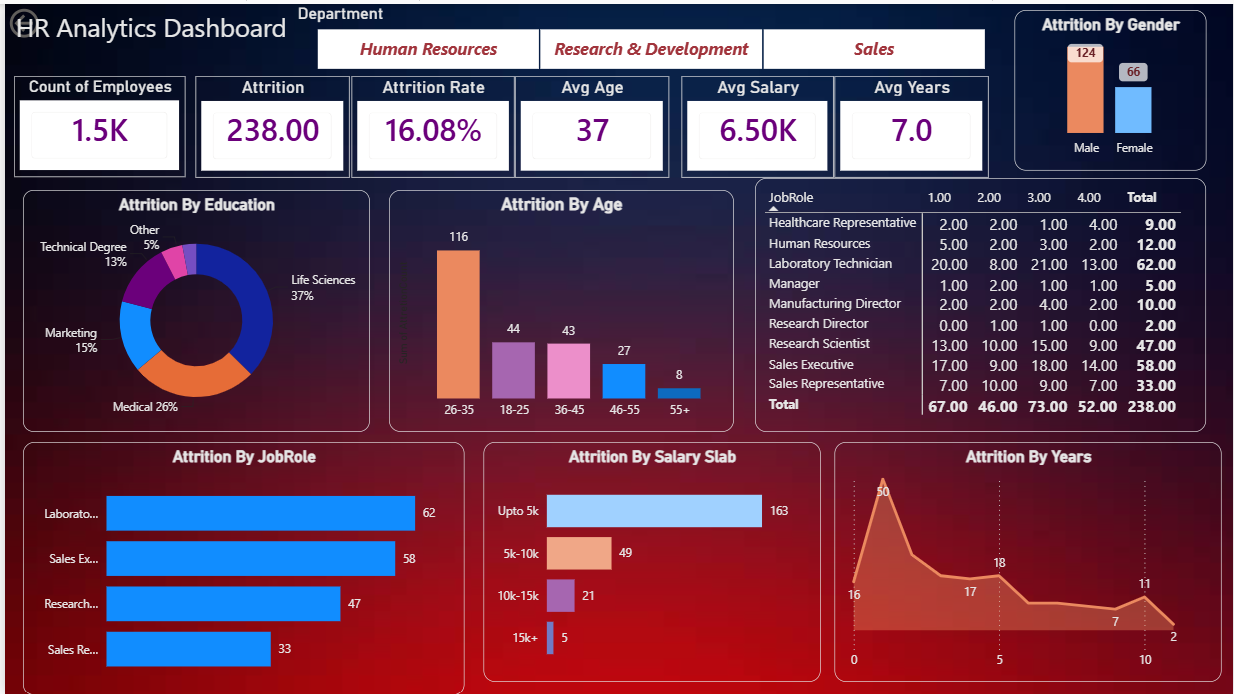

Layout of this report page (visuals, bound fields, positions):
{"tool":"powerbi","page":{"name":"Page 1","canvas":[1280,720],"ordinal":0},"visuals":[{"type":"cardVisual","title":"Count of Employees","fields":{"Data":["CountNonNull(HR_Analytics - HR_Analytics.EmpID)"]},"box":[18.9,75.6,160.6,105.8],"z":0},{"type":"cardVisual","title":"Attrition","fields":{"Data":["Sum(HR_Analytics.AttretionCount)"]},"box":[198.4,75.6,160.6,105.8],"z":1000},{"type":"cardVisual","title":"Attrition Rate","fields":{"Data":["HR_Analytics.AttritionRate"]},"box":[360.9,75.6,170.1,105.8],"z":2000},{"type":"actionButton","box":[0.7,0,100,40],"z":3000},{"type":"cardVisual","title":"Avg Age","fields":{"Data":["Avg(HR_Analytics.Age)"]},"box":[531,75.6,160.6,105.8],"z":4000},{"type":"cardVisual","title":"Avg Salary","fields":{"Data":["Avg(HR_Analytics.MonthlyIncome)"]},"box":[704.9,75.6,158.7,105.8],"z":5000},{"type":"cardVisual","title":"Avg Years","fields":{"Data":["Avg(HR_Analytics.YearsAtCompany)"]},"box":[863.6,75.6,160.6,105.8],"z":6000},{"type":"donutChart","title":"Attrition By  Education","fields":{"Y":["Sum(HR_Analytics.AttretionCount)"],"Category":["HR_Analytics.EducationField"]},"box":[18.2,193.7,361.2,252.2],"z":7000},{"type":"columnChart","title":"Attrition By  Age","fields":{"Category":["HR_Analytics.AgeGroup"],"Y":["Sum(HR_Analytics.AttretionCount)"]},"box":[399.5,193.7,359.2,252.2],"z":8000},{"type":"pivotTable","fields":{"Values":["Sum(HR_Analytics.AttretionCount)"],"Rows":["HR_Analytics.JobRole"],"Columns":["HR_Analytics.JobSatisfaction"]},"box":[780.9,181.6,470.2,264.3],"z":9000},{"type":"barChart","title":"Attrition By JobRole","fields":{"Category":["HR_Analytics.JobRole"],"Y":["Sum(HR_Analytics.AttretionCount)"]},"box":[18.2,456,460.1,264.3],"z":10000},{"type":"barChart","title":"Attrition By  Salary Slab","fields":{"Category":["HR_Analytics.SalarySlab"],"Y":["Sum(HR_Analytics.AttretionCount)"]},"box":[498.4,456,351.1,250.2],"z":11000},{"type":"areaChart","title":"Attrition By  Years","fields":{"Category":["HR_Analytics.YearsAtCompany"],"Y":["Sum(HR_Analytics.AttretionCount)"]},"box":[863.7,456,403.6,250.2],"z":12000},{"type":"lineClusteredColumnComboChart","title":"Attrition By Gender","fields":{"Category":["HR_Analytics.Gender"],"Y":["Sum(HR_Analytics.AttretionCount)"]},"box":[1051.3,6.1,199.8,167.5],"z":13000},{"type":"slicer","title":"Department","fields":{"Values":["HR_Analytics.Department"]},"box":[300.7,0,744.6,74.7],"z":14000},{"type":"textbox","box":[0,0,304.7,64.6],"z":15000}]}

Visuals, with their boxes in screenshot pixels (x1, y1, x2, y2), scaled from the page's 1280x720 canvas onto the 1234x694 screenshot:
"Count of Employees" cardVisual: (left=18, top=73, right=173, bottom=175)
"Attrition" cardVisual: (left=191, top=73, right=346, bottom=175)
"Attrition Rate" cardVisual: (left=348, top=73, right=512, bottom=175)
actionButton: (left=1, top=0, right=97, bottom=39)
"Avg Age" cardVisual: (left=512, top=73, right=667, bottom=175)
"Avg Salary" cardVisual: (left=680, top=73, right=833, bottom=175)
"Avg Years" cardVisual: (left=833, top=73, right=987, bottom=175)
"Attrition By  Education" donutChart: (left=18, top=187, right=366, bottom=430)
"Attrition By  Age" columnChart: (left=385, top=187, right=731, bottom=430)
pivotTable - Sum(HR_Analytics.AttretionCount) x HR_Analytics.JobRole: (left=753, top=175, right=1206, bottom=430)
"Attrition By JobRole" barChart: (left=18, top=440, right=461, bottom=693)
"Attrition By  Salary Slab" barChart: (left=480, top=440, right=819, bottom=681)
"Attrition By  Years" areaChart: (left=833, top=440, right=1222, bottom=681)
"Attrition By Gender" lineClusteredColumnComboChart: (left=1014, top=6, right=1206, bottom=167)
"Department" slicer: (left=290, top=0, right=1008, bottom=72)
textbox: (left=0, top=0, right=294, bottom=62)
